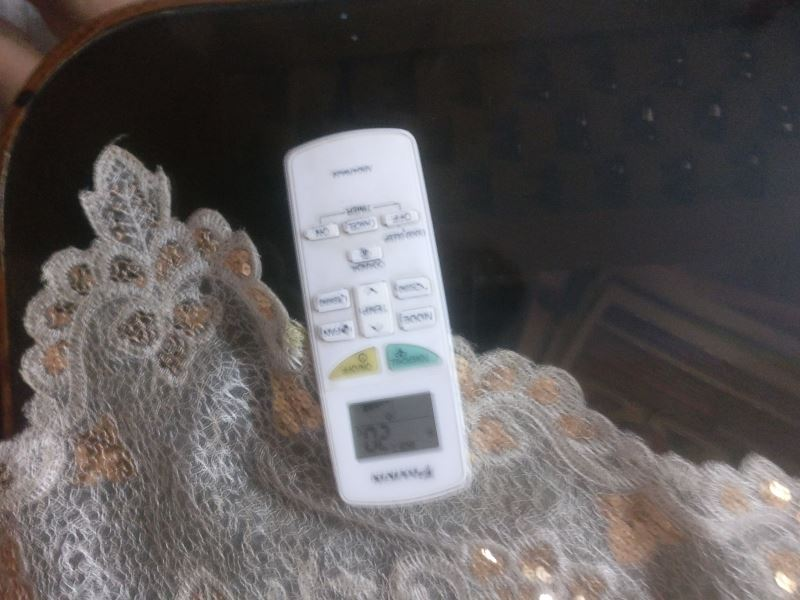ac remote: (285, 127, 474, 511)
